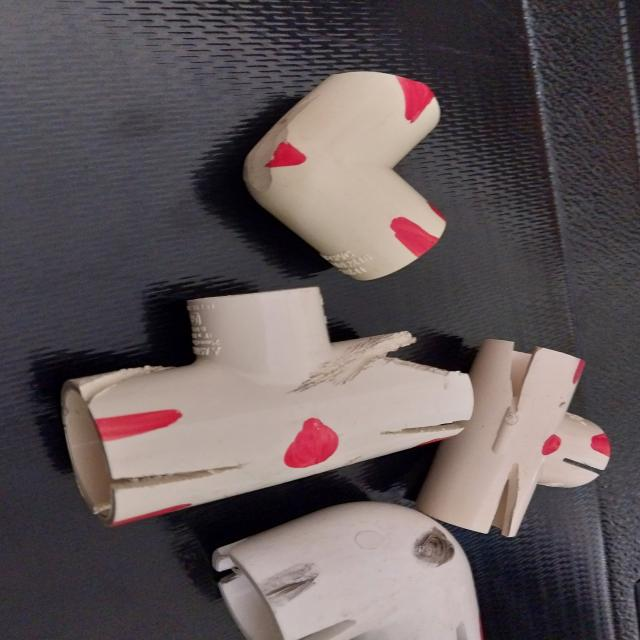Defective: (253, 567, 344, 630), (106, 461, 255, 490), (89, 408, 185, 438), (376, 418, 474, 444), (286, 420, 338, 468), (279, 608, 360, 638), (490, 464, 521, 540), (512, 347, 542, 410), (416, 527, 459, 564), (392, 223, 434, 252), (552, 453, 602, 477), (567, 358, 587, 414), (266, 143, 306, 170), (404, 88, 432, 124), (402, 81, 432, 109), (591, 438, 609, 455), (451, 624, 470, 640), (543, 437, 560, 452)
L Joint: (240, 71, 445, 280), (217, 506, 483, 638)
T Joint: (66, 284, 498, 510)
